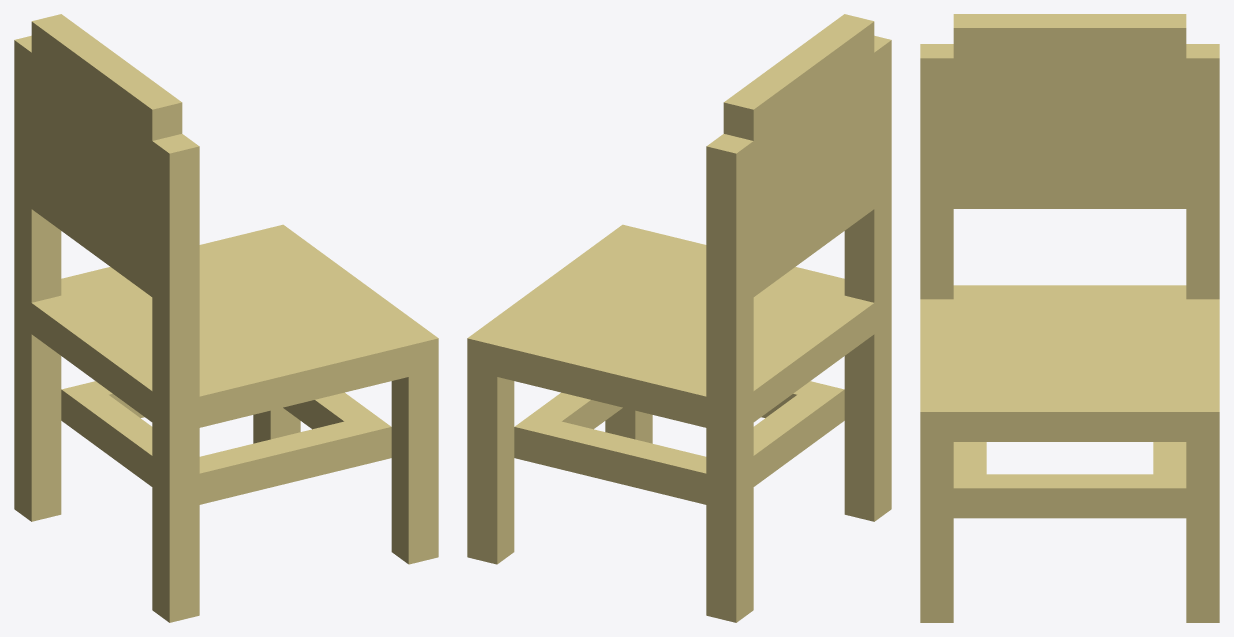
File: Silla qlera v2.obj
The picture shows the model from 3 angles, left to right: view 1: azimuth 30°, elevation 25°; view 2: azimuth 150°, elevation 25°; view 3: azimuth 270°, elevation 25°; orthographic projection. The views are drawn at different scales.
Visible parts, largest first — view 1: cube; view 2: cube; view 3: cube.
Part boxes in pixels (x1,y1,x2,y2): cube: (14,14,438,622); cube: (467,14,891,622); cube: (920,14,1219,622).
Bounding box in the file's own units: 0.5625 × 1 × 0.5625.
Materials: 1 (1 with a texture image).
